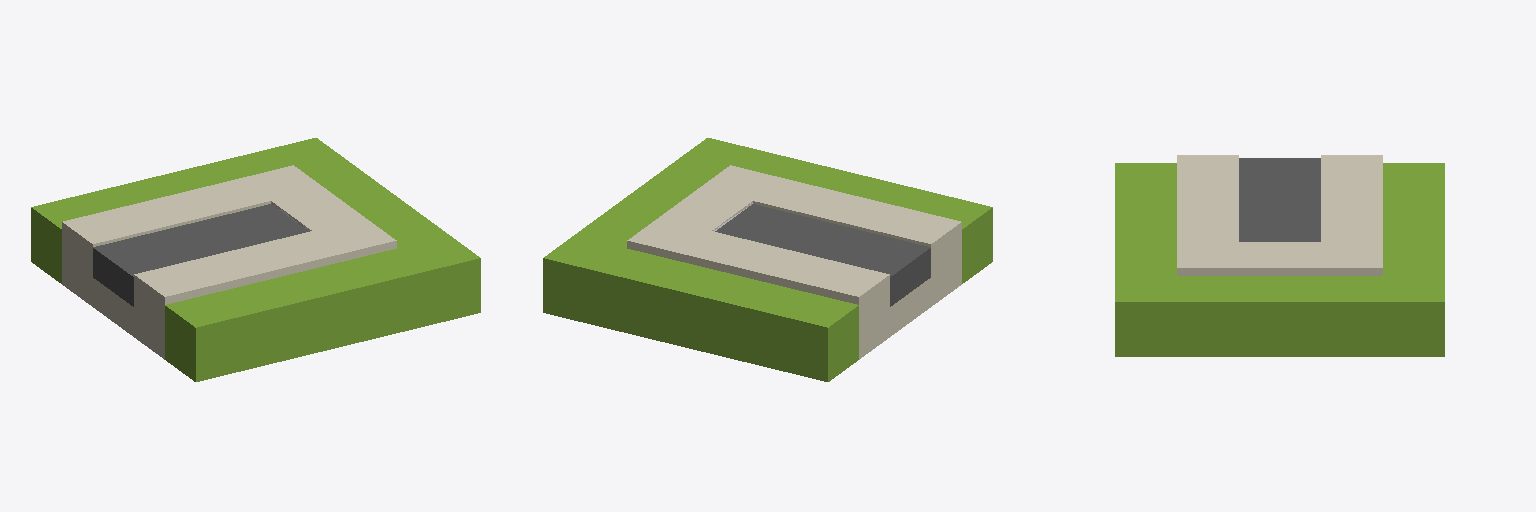
File: tile060.obj
The picture shows the model from 3 angles: view 1: azimuth 30°, elevation 25°; view 2: azimuth 150°, elevation 25°; view 3: azimuth 270°, elevation 25°; orthographic projection.
Parts seen in each view (by area): view 1: tile060; view 2: tile060; view 3: tile060.
Boxes of the visible parts, x1,y1,x2,y2 form: tile060: [31, 138, 480, 381]; tile060: [543, 138, 992, 381]; tile060: [1115, 155, 1444, 356].
Bounding box in the file's own units: 1 × 0.21 × 1.